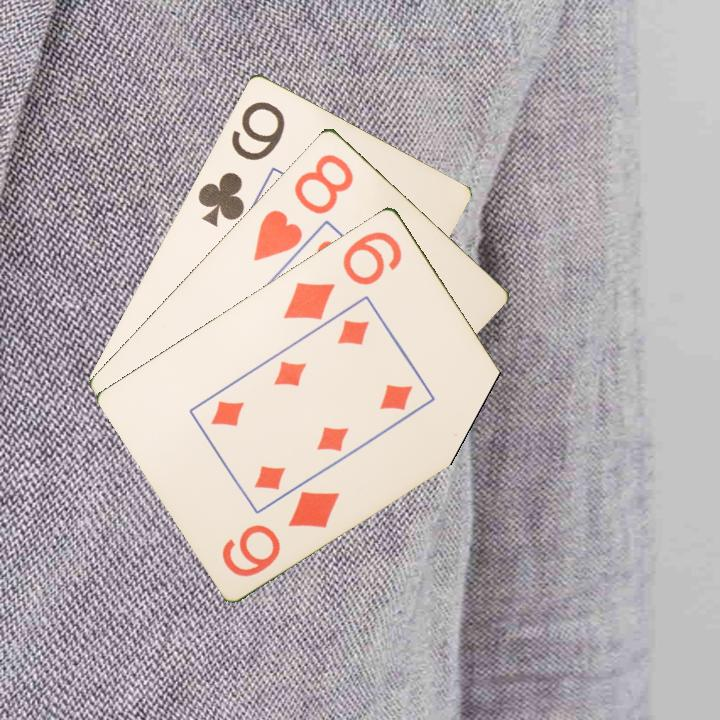6d: (279, 227, 405, 323), (218, 486, 343, 580)
8h: (249, 149, 357, 264)
9c: (193, 97, 288, 230)
